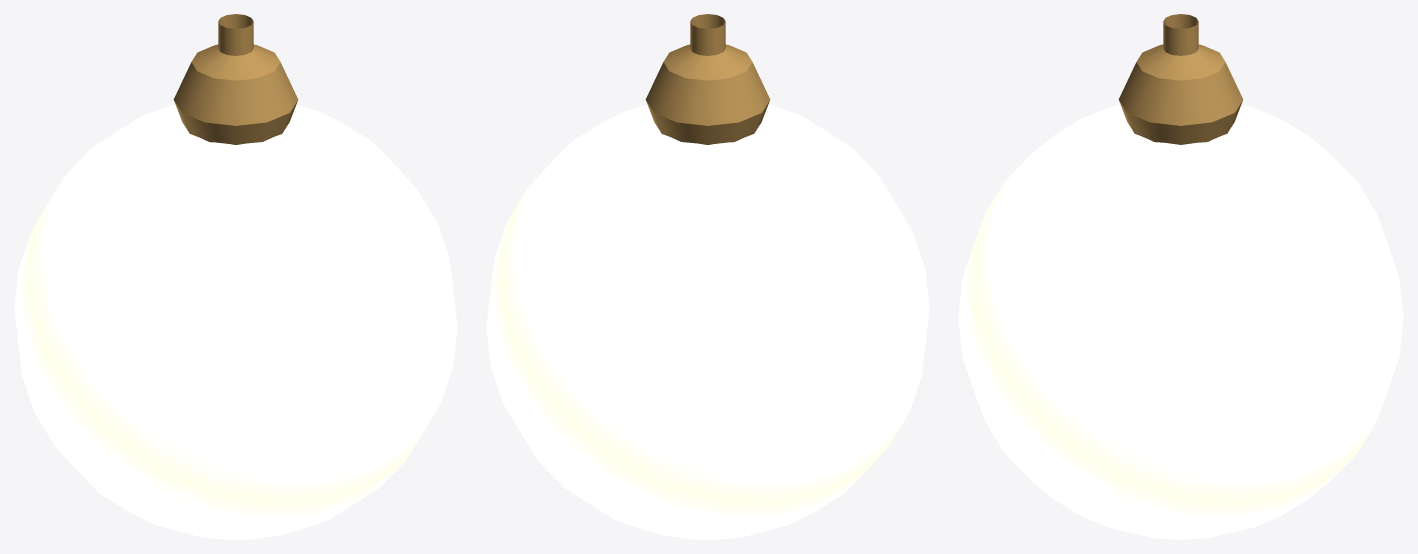
The model's file is globe_brass.glb.
The picture shows the model from 3 angles, left to right: view 1: azimuth 30°, elevation 25°; view 2: azimuth 150°, elevation 25°; view 3: azimuth 270°, elevation 25°; orthographic projection.
Parts seen in each view (by area): view 1: globe_brass; view 2: globe_brass; view 3: globe_brass.
Part boxes in pixels (left/top/right/bottom): globe_brass: left=14, top=14, right=457, bottom=539; globe_brass: left=486, top=14, right=929, bottom=539; globe_brass: left=958, top=14, right=1403, bottom=539.
Size of the model in its own units: 0.3 by 0.37 by 0.3.
